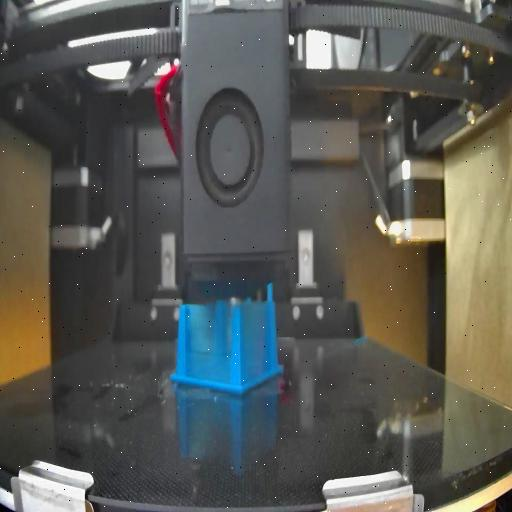stringing: (186, 304, 234, 388), (243, 300, 270, 386)
